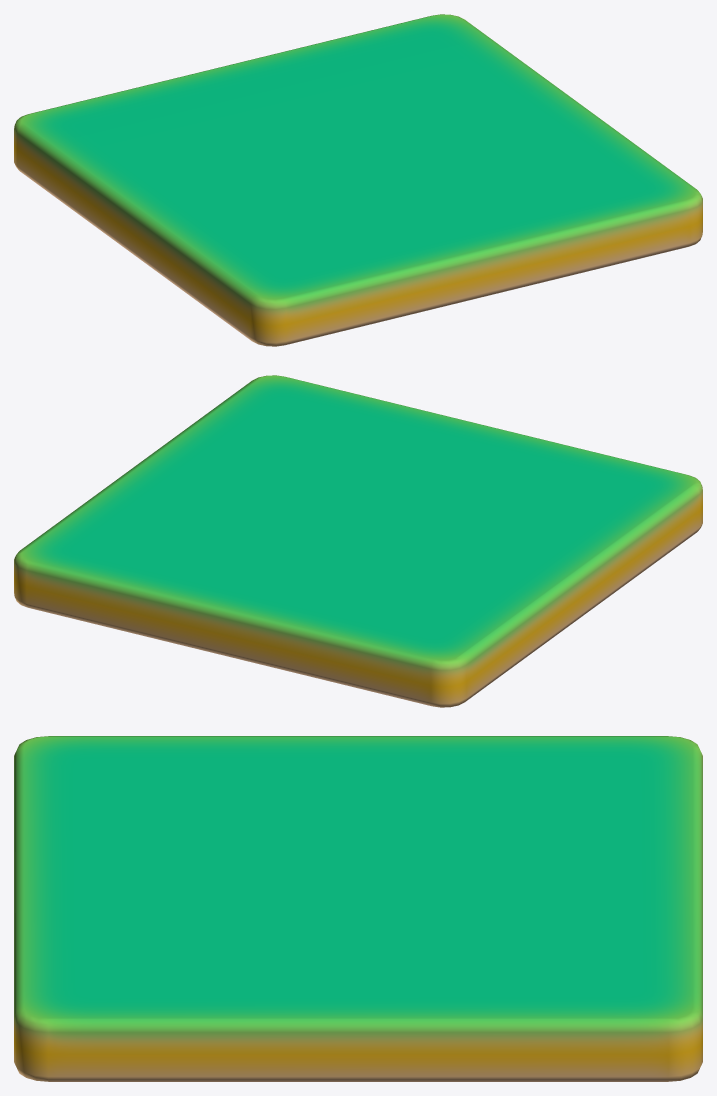
Rendered from stage30.fbx.
3 views of the same model, one above another, from view 1: azimuth 30°, elevation 25°; view 2: azimuth 150°, elevation 25°; view 3: azimuth 270°, elevation 25° (orthographic). The views are drawn at different scales.
Visible parts, largest first — view 1: stage; view 2: stage; view 3: stage.
Part boxes in pixels (left/top/right/bottom): stage: left=14, top=14, right=702, bottom=346; stage: left=14, top=375, right=702, bottom=707; stage: left=14, top=736, right=702, bottom=1081.
Size of the model in its own units: 3000 by 300 by 3000.
